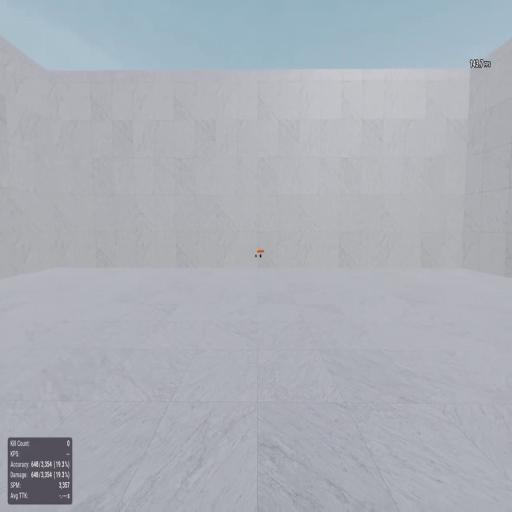Crosshair: (255, 254, 257, 258)
Target: (259, 254, 262, 258)
